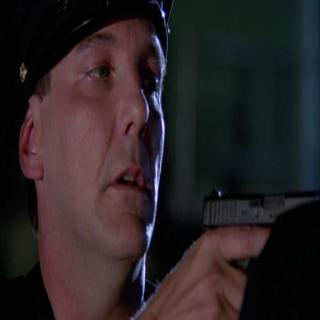gun: (175, 184, 317, 320)
